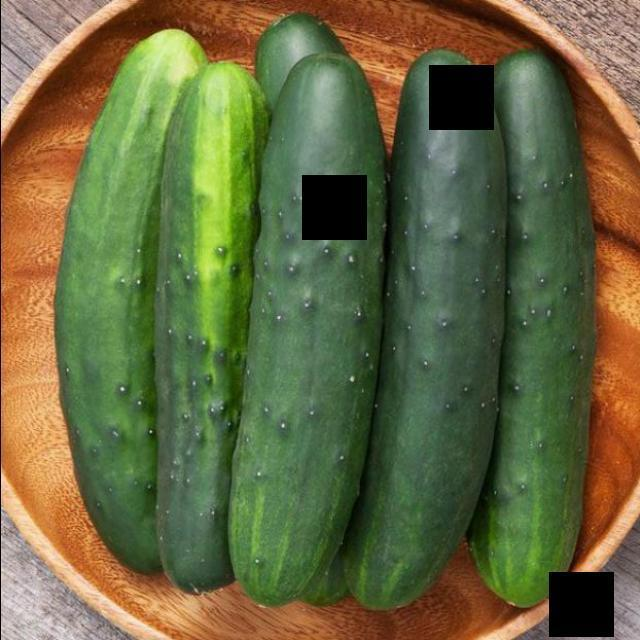cucumber: (226, 50, 392, 606), (352, 41, 510, 625), (46, 28, 208, 580), (474, 46, 600, 613), (152, 56, 262, 600)
